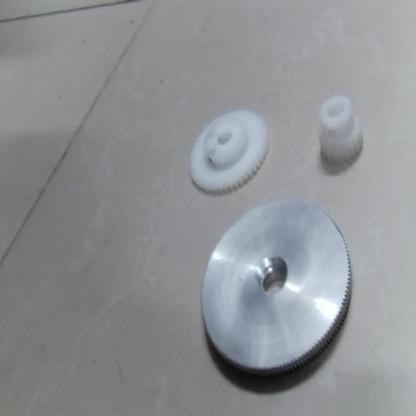FOD: (205, 204, 358, 384), (176, 106, 264, 196), (304, 91, 374, 168)
